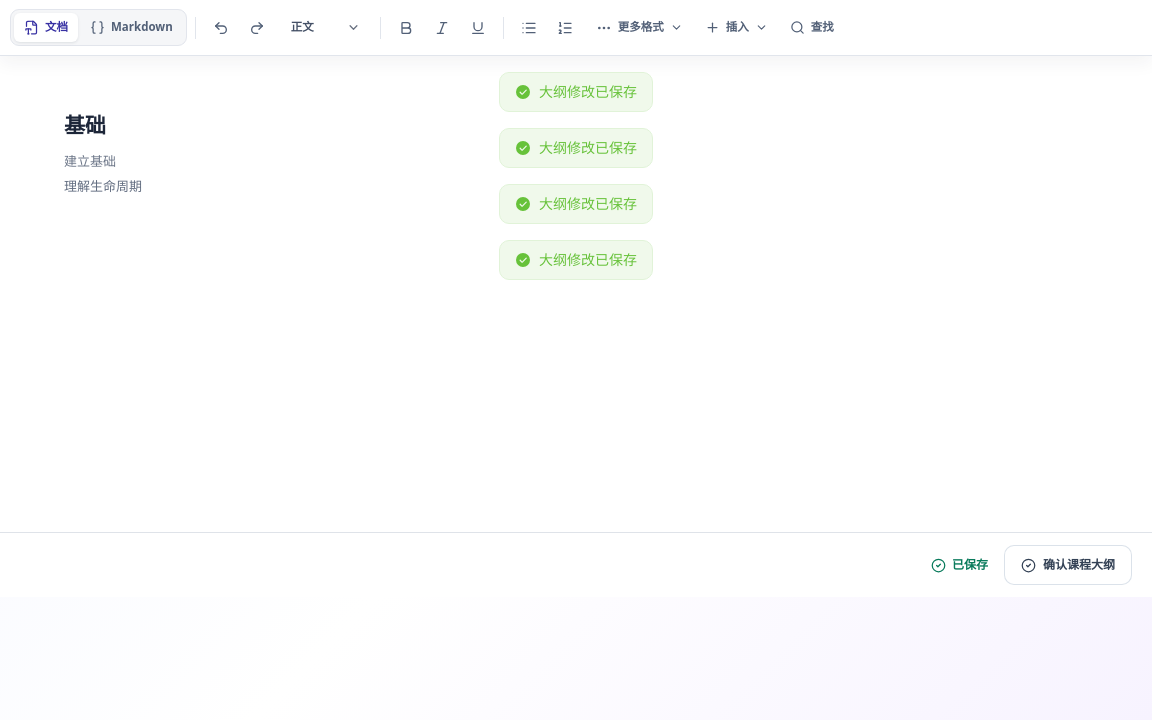
Test: 一句话调整课程目录 › 把低频专业格式收进更多菜单，并提供公式与查找替换入口
Expected: the element with class "outline-document-toolbar" shows "查找", left=782, top=10, right=842, bottom=44
Press the mouse on the button with class "outline-menu-trigger" showing "更多格式" at [639, 28], box left=588, top=10, right=691, bottom=44
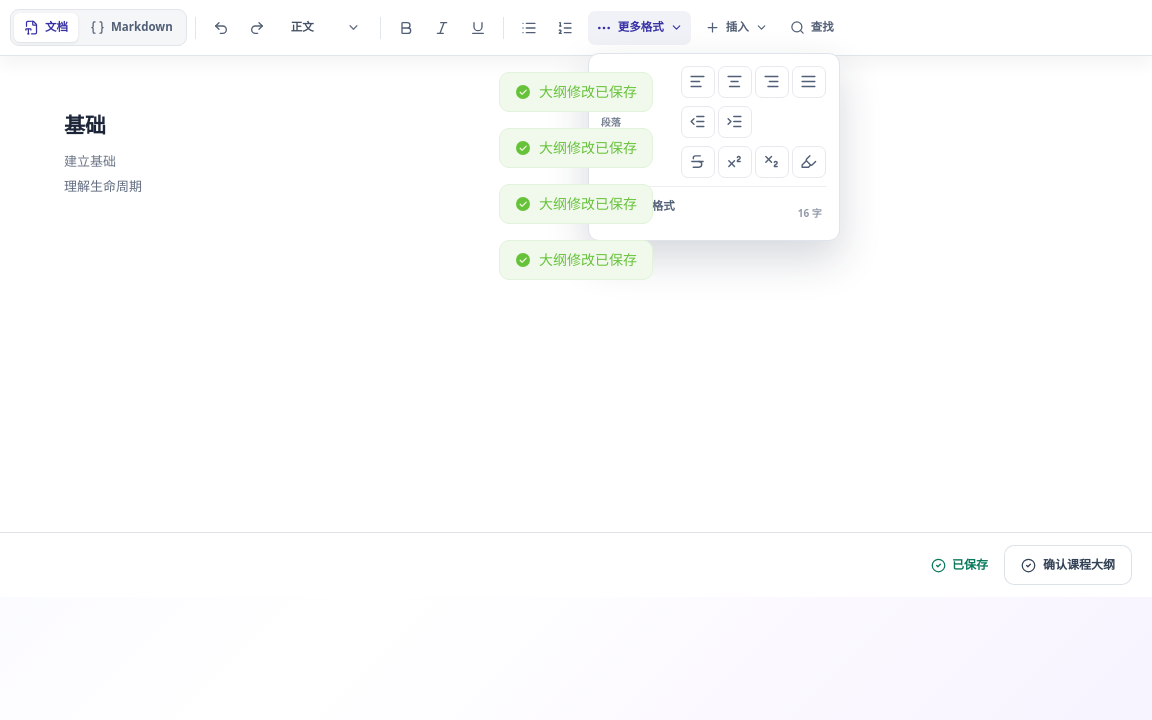
Expected: the menu with class "outline-format-menu" shows "段落对齐", left=601, top=74, right=641, bottom=88
Now the menu with class "outline-format-menu" shows "清除格式", box left=601, top=186, right=827, bottom=220
Press the mouse on the button with class "outline-insert-trigger" at [736, 28], box left=697, top=10, right=776, bottom=44
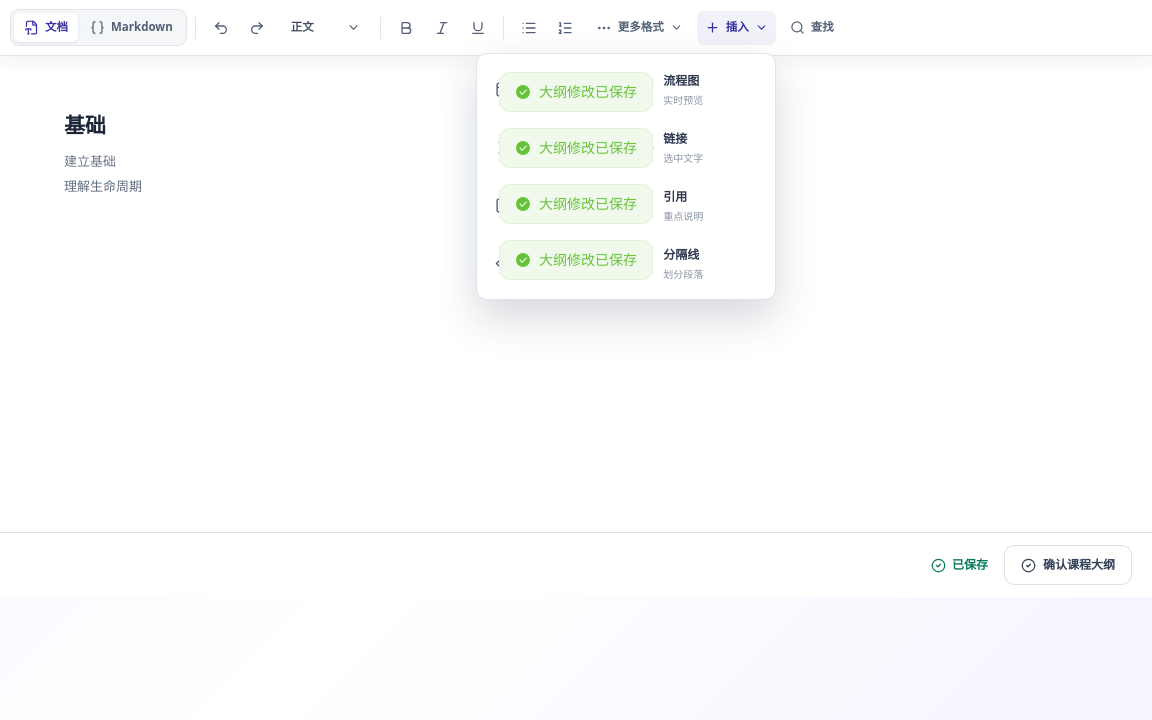
Now the menu with class "outline-insert-menu" shows "公式", box left=485, top=120, right=624, bottom=175
